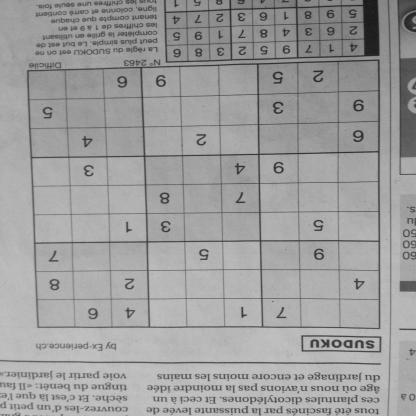sudoku: (22, 57, 385, 333)
